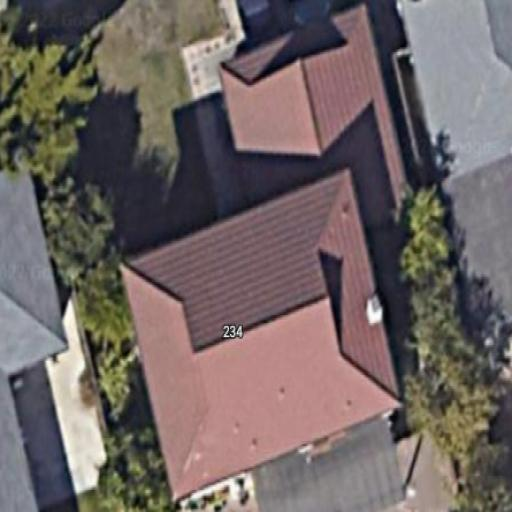Slope-Roof: (122, 171, 402, 500)
